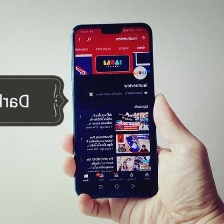phone: (67, 18, 162, 200)
